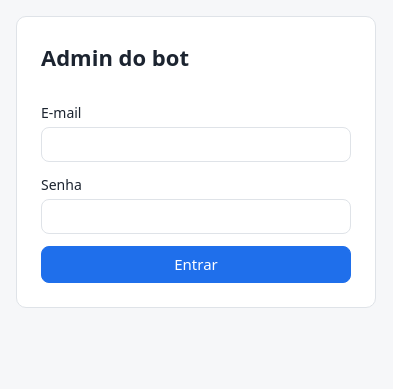
Test: login com erro mostra a mensagem da API
The image size is (393, 389).
Type "a@x.com" into the field labelled "E-mail". click: (196, 144)
box: [41, 127, 351, 162]
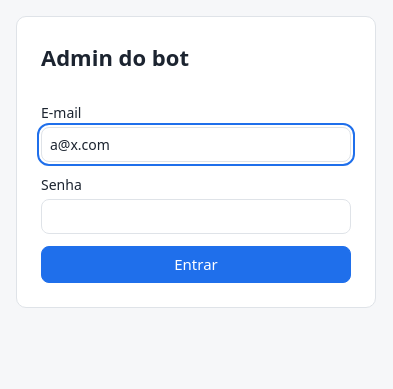
Type "x" into the password field labelled "Senha". click: (196, 216)
box: [41, 199, 351, 234]
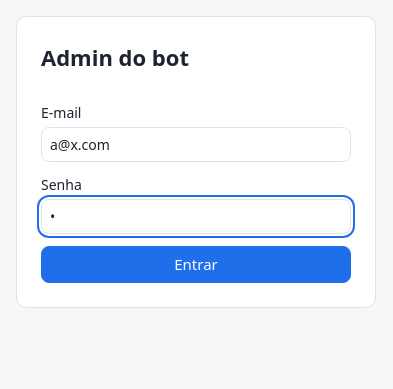
Click the button "Entrar". click: (196, 264)
box: [41, 246, 351, 282]
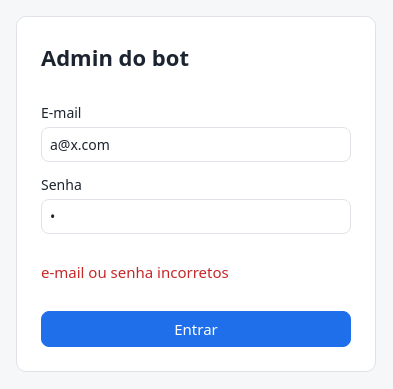
Result: the message reads "e-mail ou senha incorretos" at [41, 262, 229, 282]
